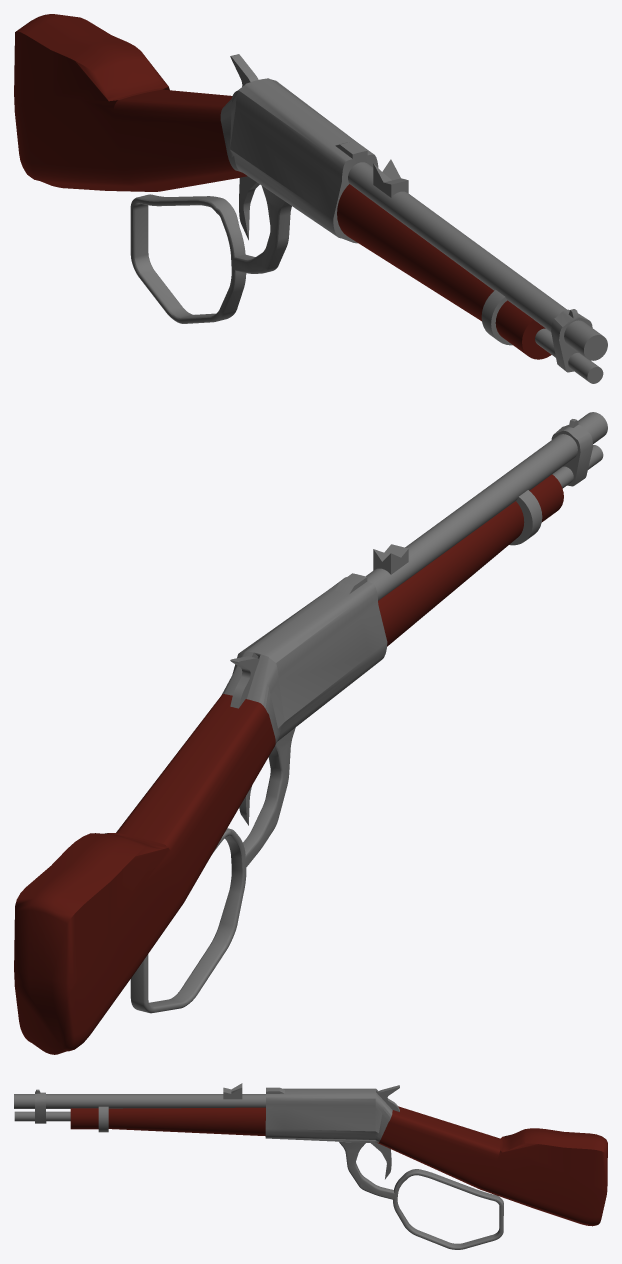
Rendered from Shotgun.fbx.
3 views of the same model, one above another, from view 1: azimuth 30°, elevation 25°; view 2: azimuth 150°, elevation 25°; view 3: azimuth 270°, elevation 25° (orthographic). The views are drawn at different scales.
Visible parts, largest first — view 1: Cylinder.002, Cube.005, Cube.004; view 2: Cylinder.002, Cube.005; view 3: Cylinder.002, Cube.005, Cube.006, Cube.004.
Boxes of the visible parts, box(x1,y1,x2,y2) form: Cylinder.002: box(14, 14, 607, 383); Cube.005: box(130, 186, 291, 323); Cube.004: box(239, 176, 259, 240); Cylinder.002: box(14, 412, 607, 1054); Cube.005: box(130, 727, 295, 1013); Cylinder.002: box(14, 1083, 607, 1226); Cube.005: box(339, 1141, 503, 1249); Cube.006: box(377, 1085, 399, 1111); Cube.004: box(371, 1143, 391, 1179).
Size of the model in its own units: 15.56 by 74.65 by 247.
